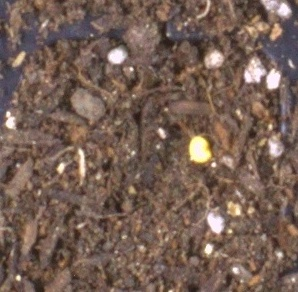chilli seed: (188, 134, 212, 163)
